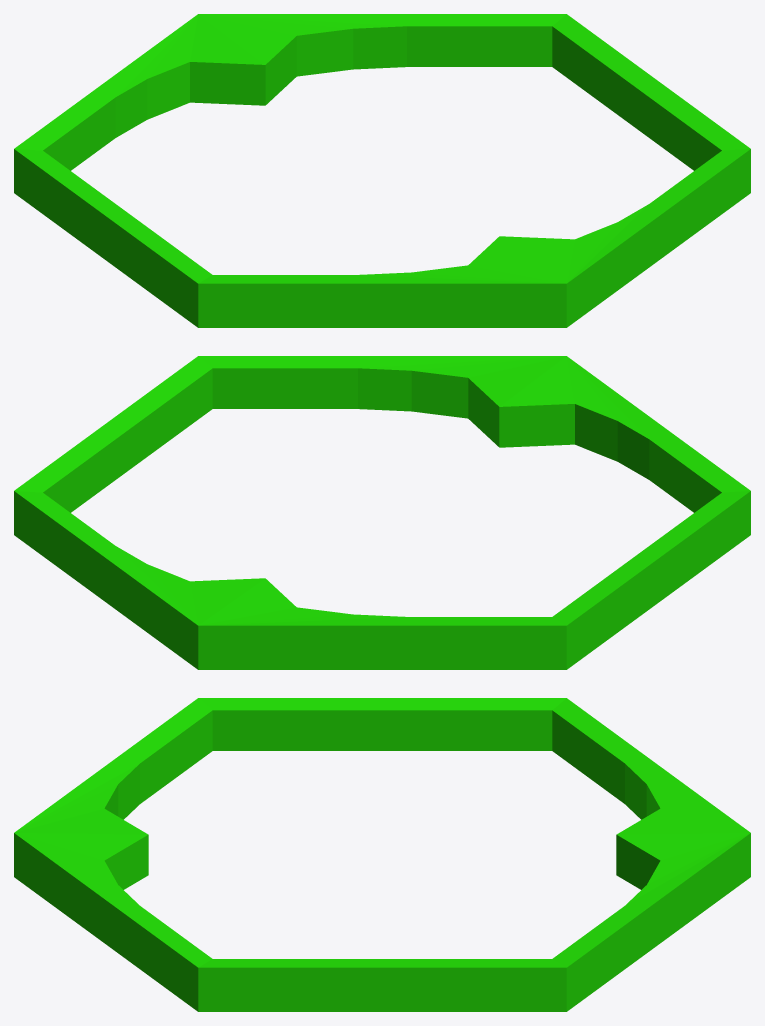
The model's file is MoveMarker2.fbx.
The picture shows the model from 3 angles, top to bottom: view 1: azimuth 30°, elevation 25°; view 2: azimuth 150°, elevation 25°; view 3: azimuth 270°, elevation 25°; orthographic projection.
Parts seen in each view (by area): view 1: Cylinder; view 2: Cylinder; view 3: Cylinder.
Part boxes in pixels (box(x1,y1,x2,y2)): Cylinder: box(14, 14, 750, 327); Cylinder: box(14, 356, 750, 669); Cylinder: box(14, 698, 750, 1011).
Size of the model in its own units: 163 by 12.46 by 188.
